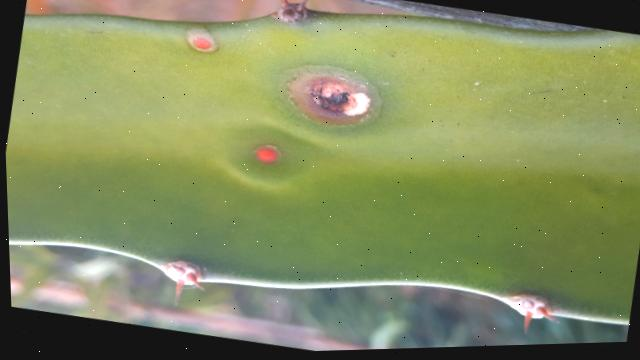stemcanker: (281, 57, 393, 135), (227, 126, 309, 186), (177, 24, 228, 65)
